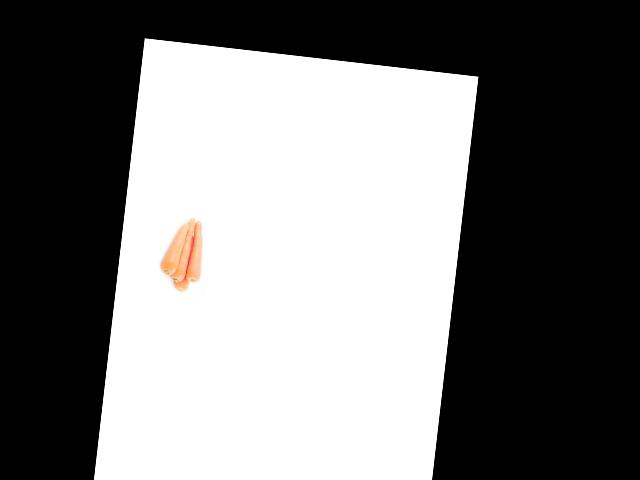carrot: (160, 218, 183, 278)
